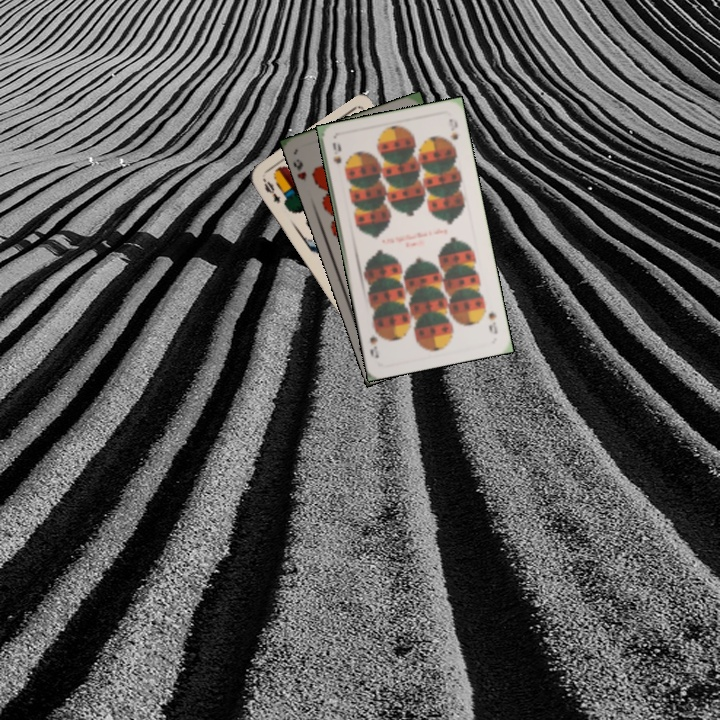EO: (258, 174, 283, 207)
H9: (291, 155, 309, 183)
S9: (328, 138, 344, 167), (484, 308, 500, 336)
